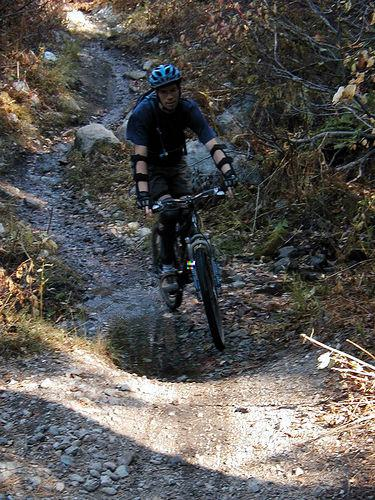car: (146, 177, 237, 353)
person: (126, 64, 238, 292)
